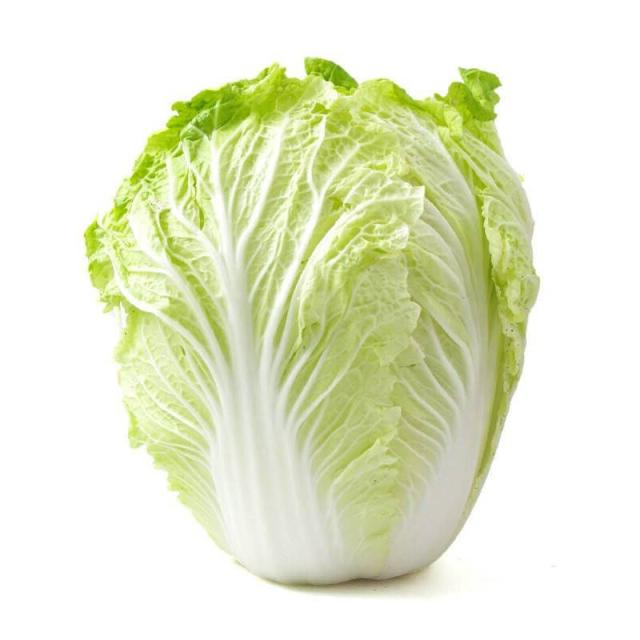Cabbage: (86, 56, 572, 582)
